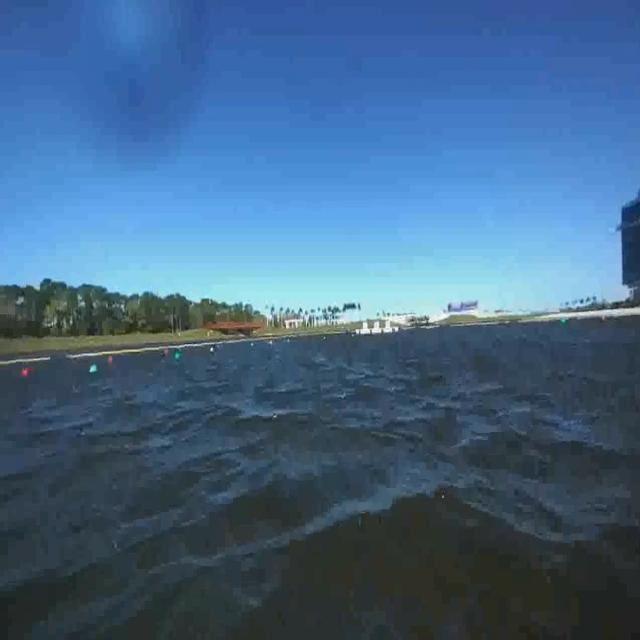green-buoy: (90, 364, 99, 373), (175, 352, 182, 360)
